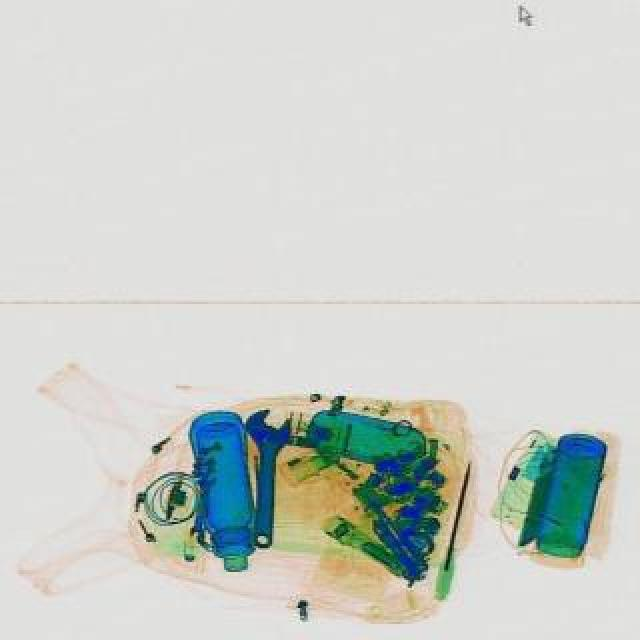scissors: (236, 408, 292, 548)
